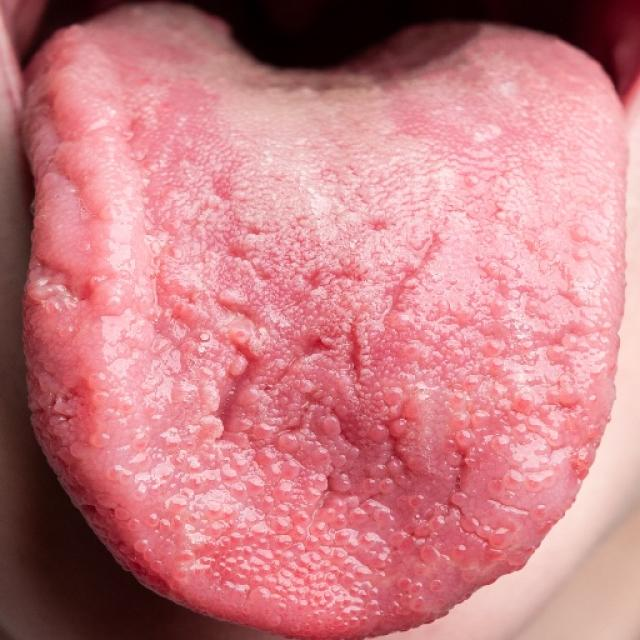processing_area: (30, 6, 629, 638)
